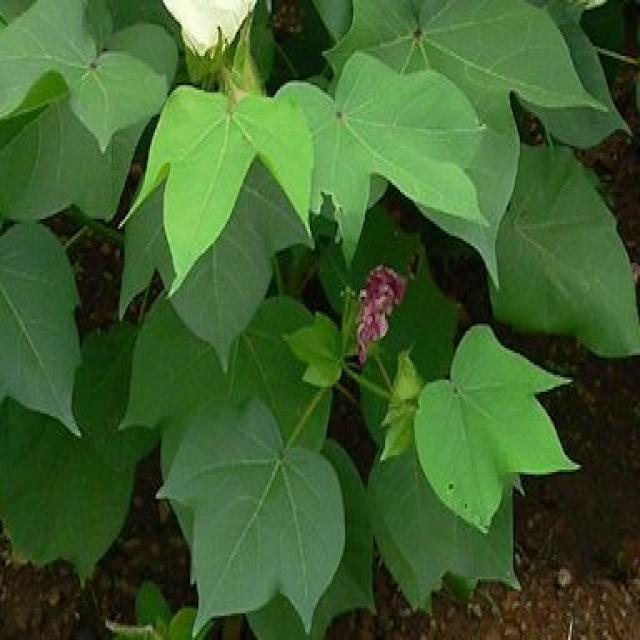Healthy Leaf: (0, 5, 640, 626)
